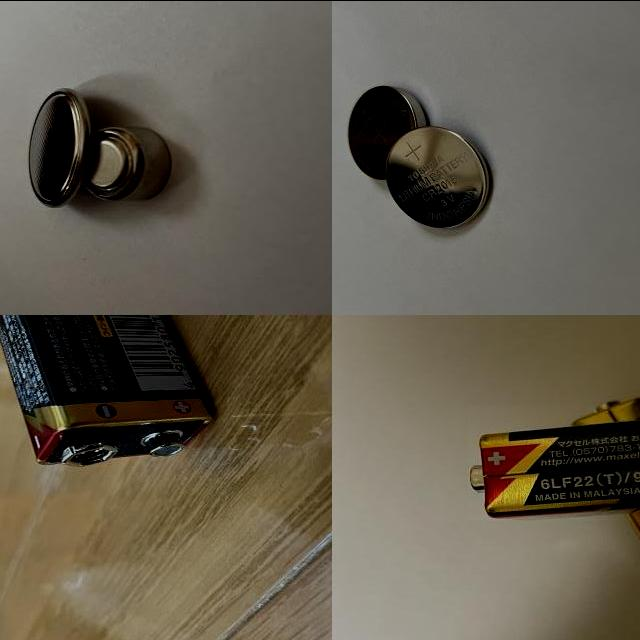9V: (0, 314, 213, 466), (468, 404, 640, 520), (569, 397, 640, 596)
